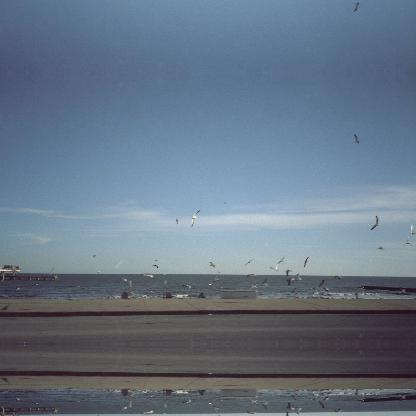Bird: (188, 209, 200, 227), (369, 214, 379, 230), (410, 218, 416, 235), (284, 276, 294, 286), (402, 235, 412, 245), (284, 400, 294, 410), (269, 262, 279, 270), (208, 260, 216, 268), (244, 258, 252, 266), (294, 272, 302, 280), (294, 406, 302, 414), (46, 266, 52, 276), (285, 268, 291, 276), (353, 134, 359, 142), (353, 2, 359, 10), (246, 272, 256, 276), (304, 256, 308, 266), (45, 410, 53, 415), (246, 410, 256, 414), (334, 408, 342, 413), (278, 256, 284, 262), (285, 410, 292, 415), (174, 216, 178, 224), (334, 274, 342, 278), (151, 263, 157, 267), (377, 244, 383, 248), (153, 257, 157, 261), (92, 254, 96, 257), (98, 268, 100, 272), (97, 414, 101, 415)
